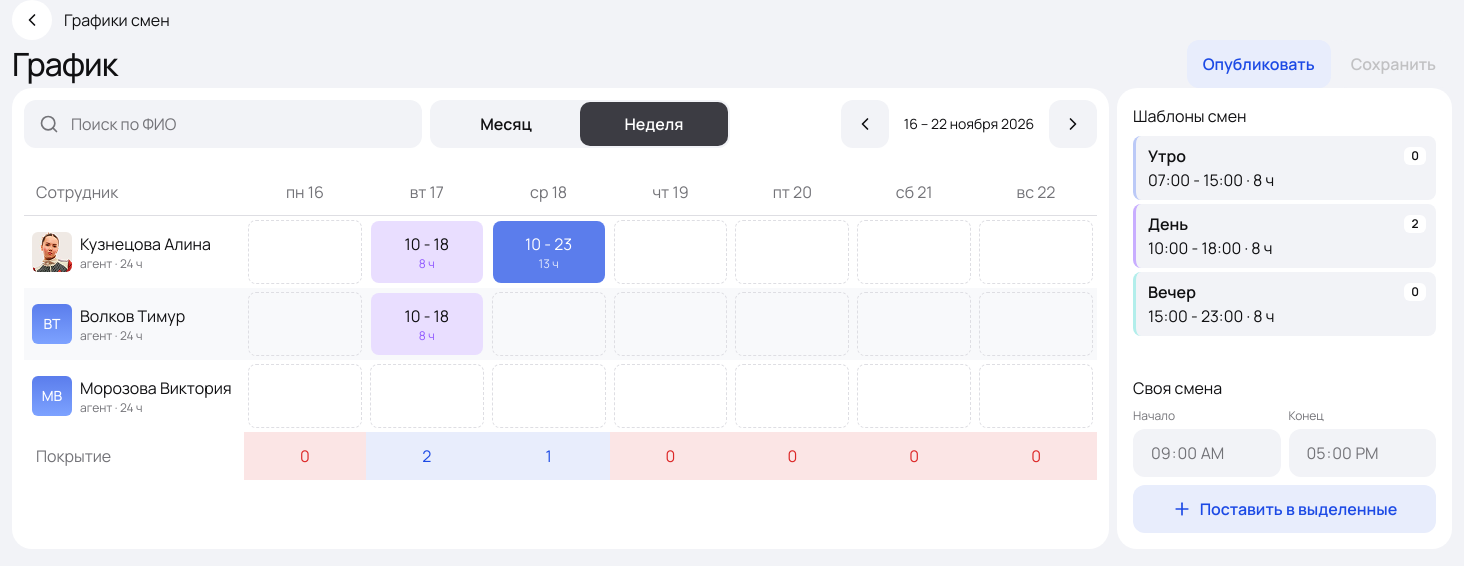
SchedulePage: назначение смен › выделение пустой ячейки и шаблон из панели: смена появляется, покрытие и счётчик растут
Expected: the table is shown, [24,168,1097,537]
Click the cell named "Морозова Виктория, пн 16: нет смены" at (305, 396), box [244,360,366,432]
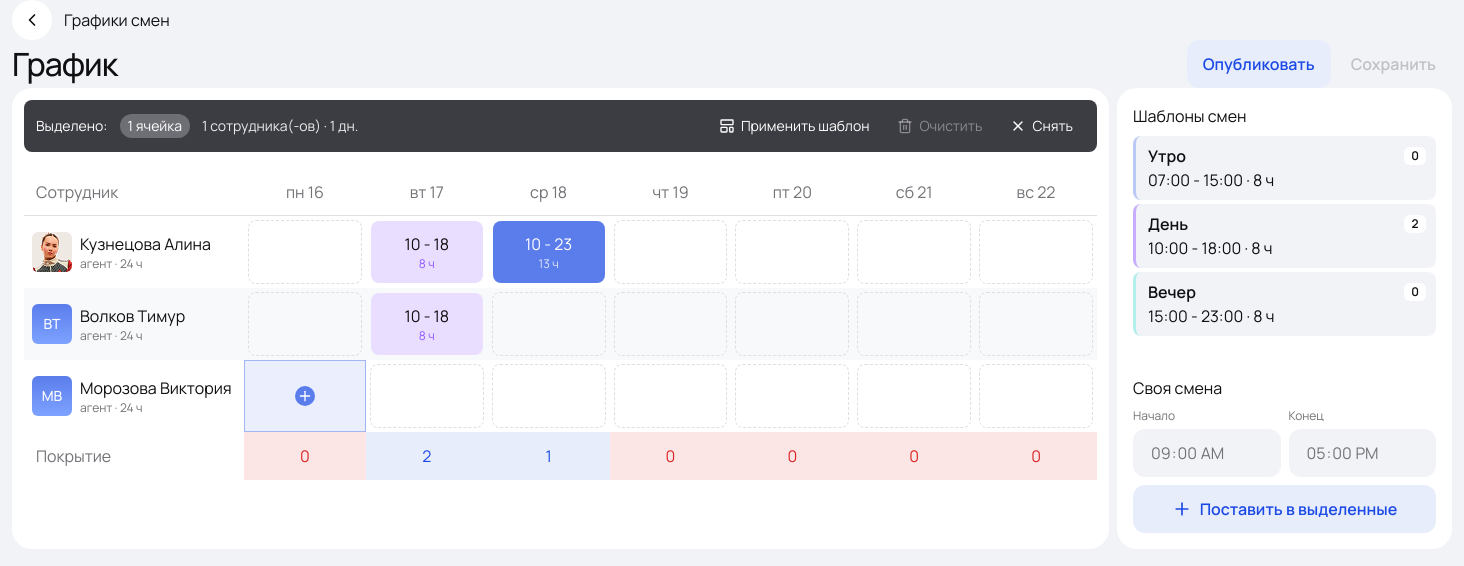
Click the button "Утро 07:00 - 15:00 · 8 ч 0" at (1284, 168), box [1133,136,1436,200]
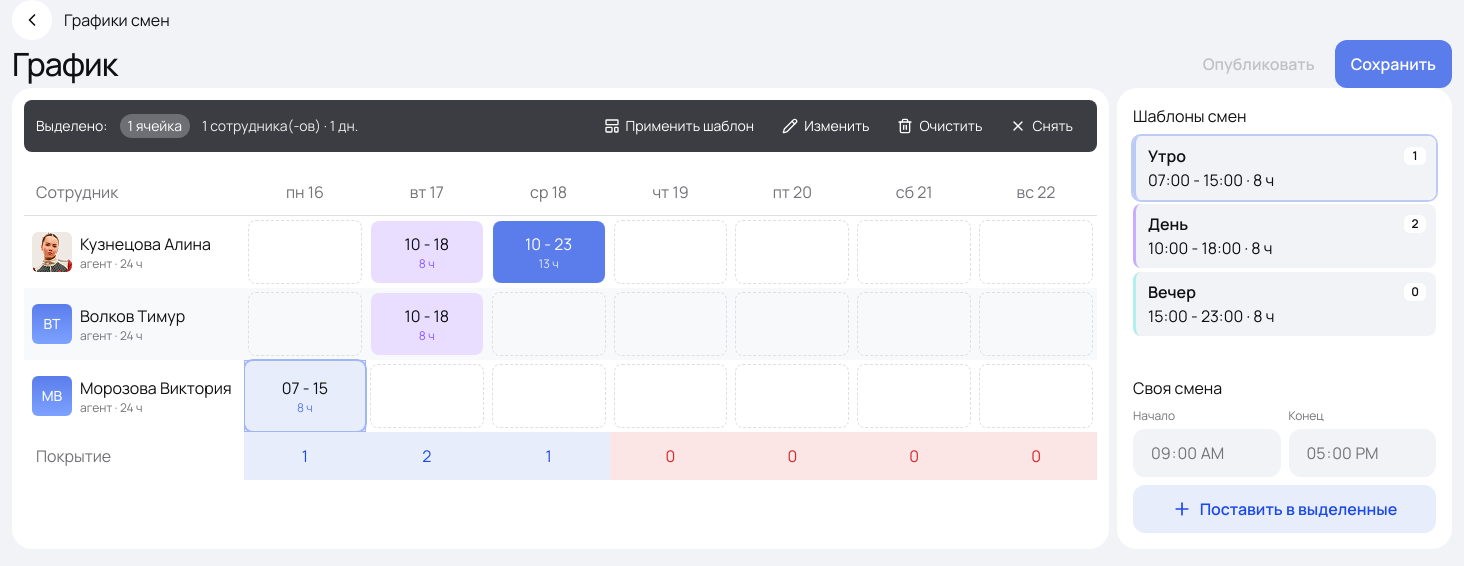
Expected: the text "07 - 15" is shown, [282,376,328,400]
Expected: the cell named "Покрытие 2026-11-16: 1" reads "1", [302,445,308,467]
Expected: the text named "Использований: 1" is shown, [1404,147,1426,165]
